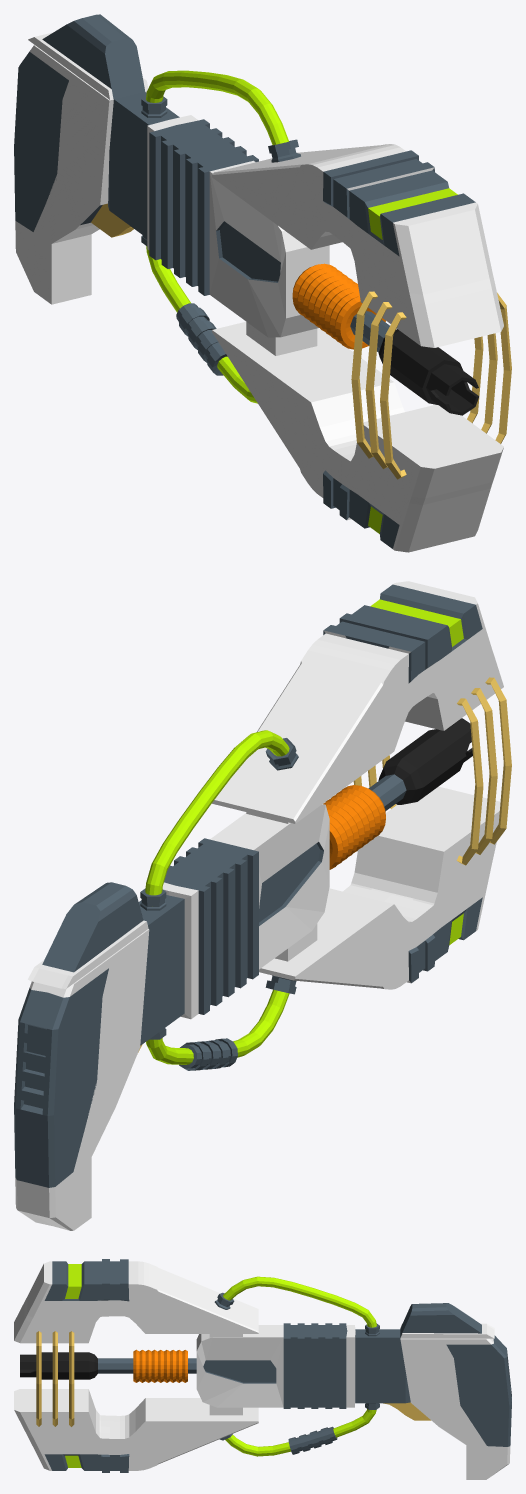
File: Gun.fbx
3 renders of one model, top to bottom at view 1: azimuth 30°, elevation 25°; view 2: azimuth 150°, elevation 25°; view 3: azimuth 270°, elevation 25°, orthographic. The views are drawn at different scales.
Visible parts, largest first — view 1: Wings, Main, Handle, ForceMultiplier, PlasmaTubes, Mag, Barrel, InductorCoil, Screws, Trigger; view 2: Wings, Main, Handle, PlasmaTubes, Mag, Barrel, ForceMultiplier, InductorCoil, Screws; view 3: Wings, Main, Handle, PlasmaTubes, Mag, Barrel, InductorCoil, ForceMultiplier, Screws, Trigger.
Boxes of the visible parts, box(x1,y1,x2,y2) form: Wings: box(212, 144, 503, 552); Main: box(108, 91, 329, 337); Handle: box(14, 45, 146, 304); ForceMultiplier: box(351, 291, 511, 479); PlasmaTubes: box(146, 70, 288, 403); Mag: box(28, 14, 148, 99); Barrel: box(350, 311, 479, 415); InductorCoil: box(292, 263, 385, 349); Screws: box(141, 96, 300, 246); Trigger: box(91, 203, 133, 237); Wings: box(212, 581, 503, 989); Main: box(138, 804, 329, 1045); Handle: box(14, 929, 149, 1230); PlasmaTubes: box(145, 730, 289, 1070); Mag: box(28, 882, 148, 988); Barrel: box(368, 718, 472, 811); ForceMultiplier: box(353, 677, 511, 865); InductorCoil: box(323, 785, 385, 869); Screws: box(140, 738, 298, 1039); Wings: box(14, 1259, 258, 1472); Main: box(196, 1323, 410, 1408); Handle: box(400, 1335, 511, 1479); PlasmaTubes: box(223, 1276, 376, 1456); Mag: box(400, 1303, 494, 1338); Barrel: box(20, 1352, 196, 1379); InductorCoil: box(133, 1349, 187, 1382); ForceMultiplier: box(36, 1331, 74, 1426); Screws: box(214, 1292, 379, 1440); Trigger: box(383, 1402, 430, 1420).
Size of the model in its own units: 803 by 2065 by 4594.
